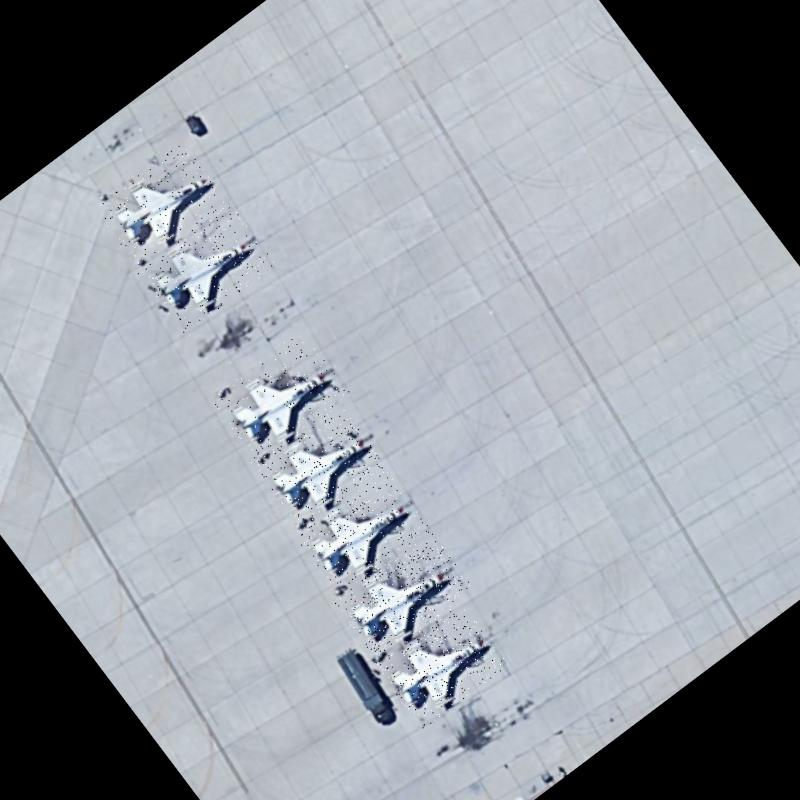A5: (210, 328, 352, 464), (248, 395, 387, 530), (137, 202, 277, 334), (296, 469, 434, 600), (334, 530, 473, 660), (373, 598, 509, 730), (94, 142, 229, 270)
